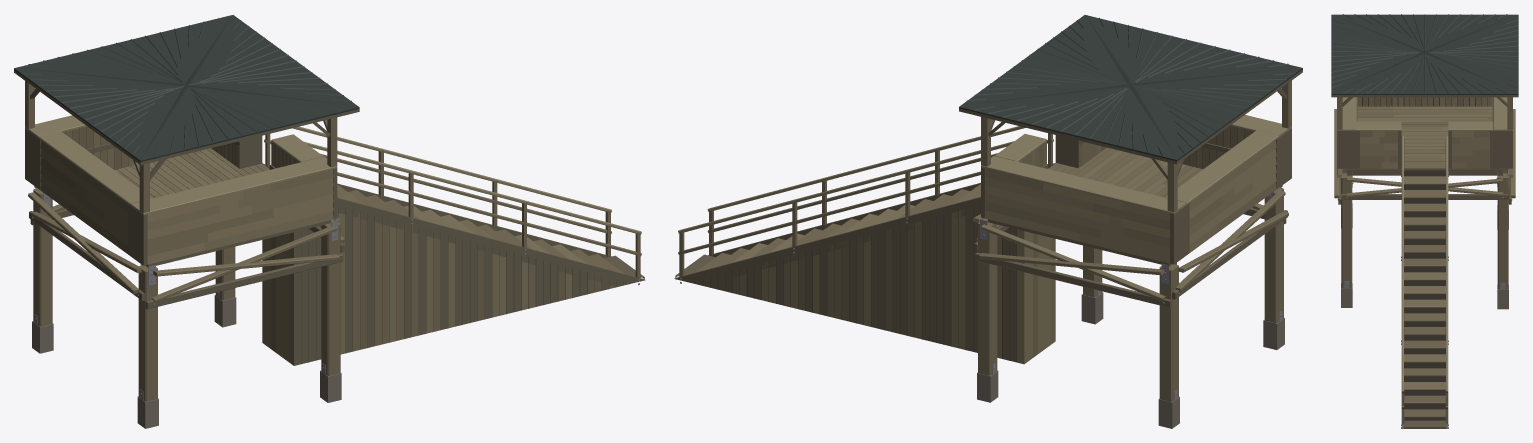
Rendered from watch_tower.glb.
3 views of the same model, side by side, from view 1: azimuth 30°, elevation 25°; view 2: azimuth 150°, elevation 25°; view 3: azimuth 270°, elevation 25° (orthographic). The views are drawn at different scales.
Parts seen in each view (by area): view 1: Tower; view 2: Tower; view 3: Tower.
Boxes of the visible parts, left/top/right/bottom form: Tower: left=14, top=15, right=645, bottom=428; Tower: left=674, top=15, right=1302, bottom=428; Tower: left=1331, top=14, right=1518, bottom=428.
Size of the model in its own units: 12.11 by 6.25 by 4.8.
